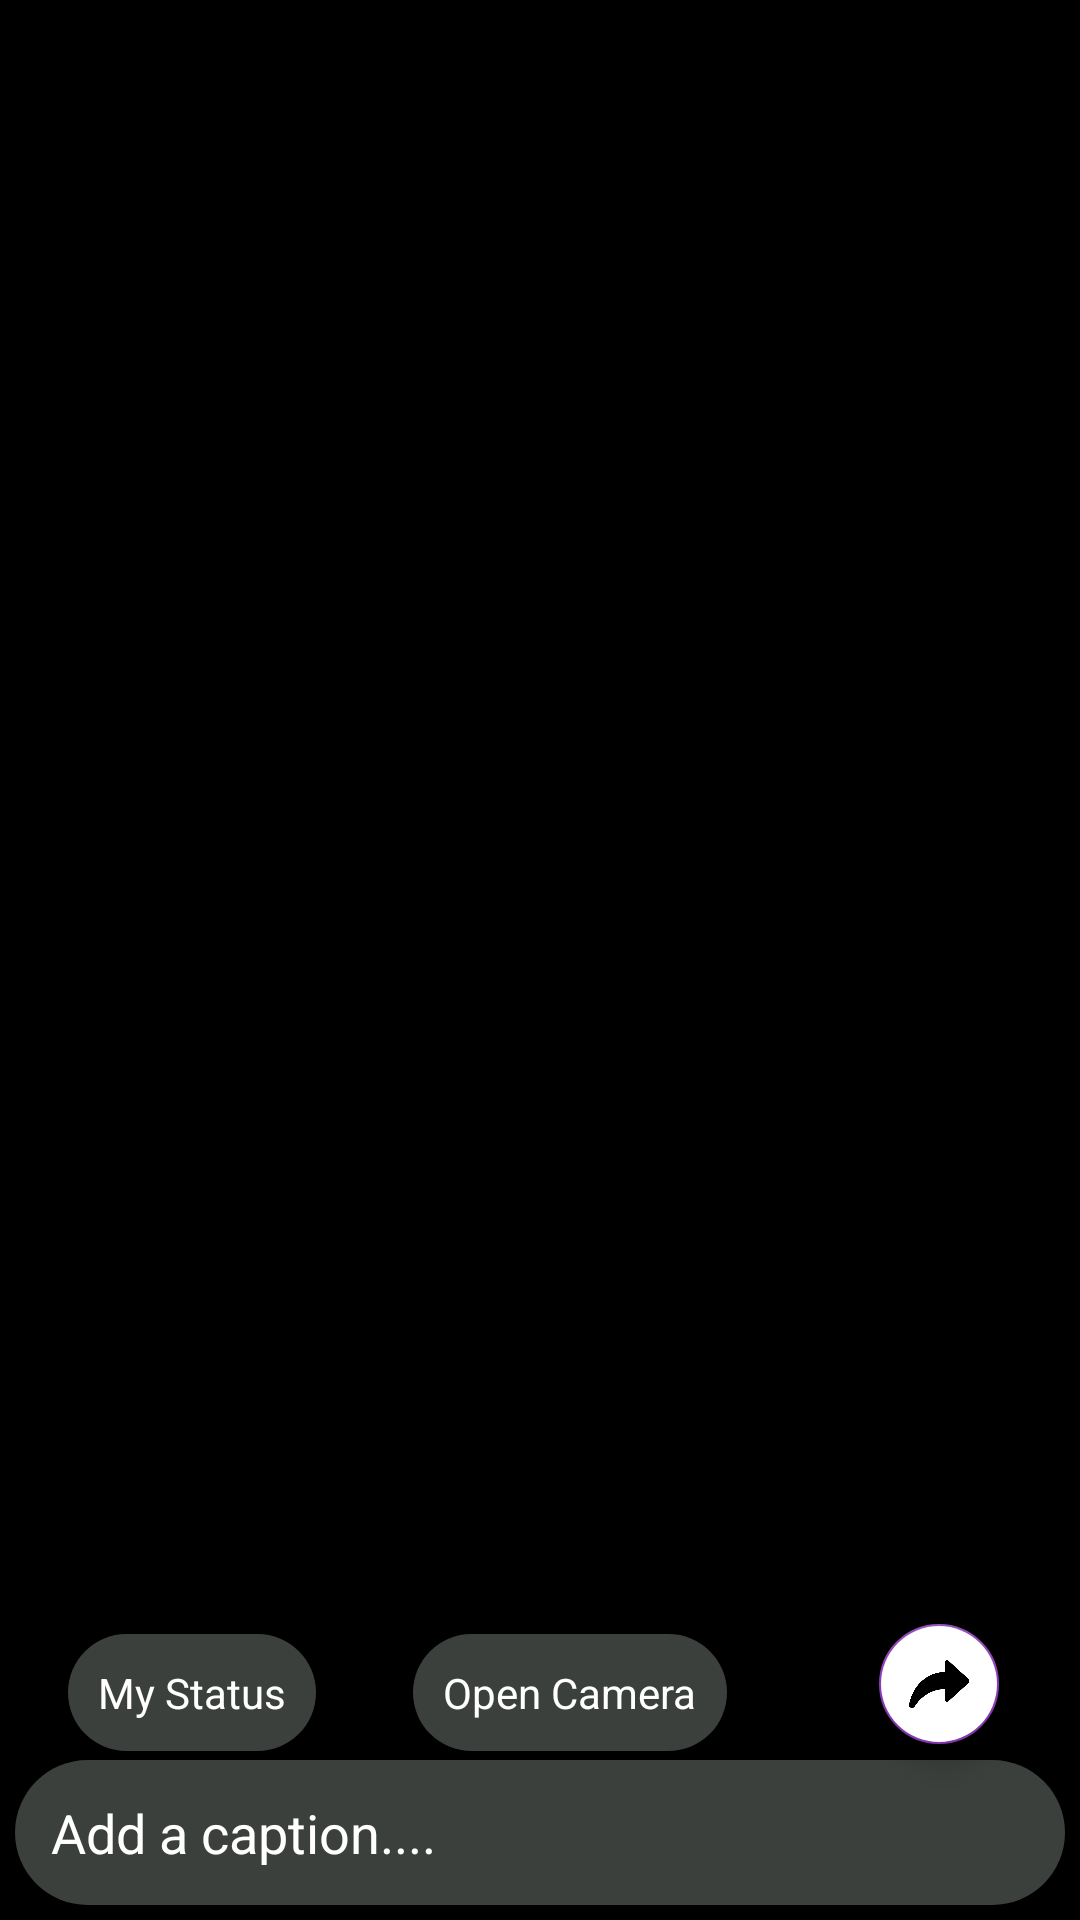

Icons on this 1080px×1920px Android screen, each with its box as (x1, y1, x2, y2):
share: (879, 1624, 999, 1744)
